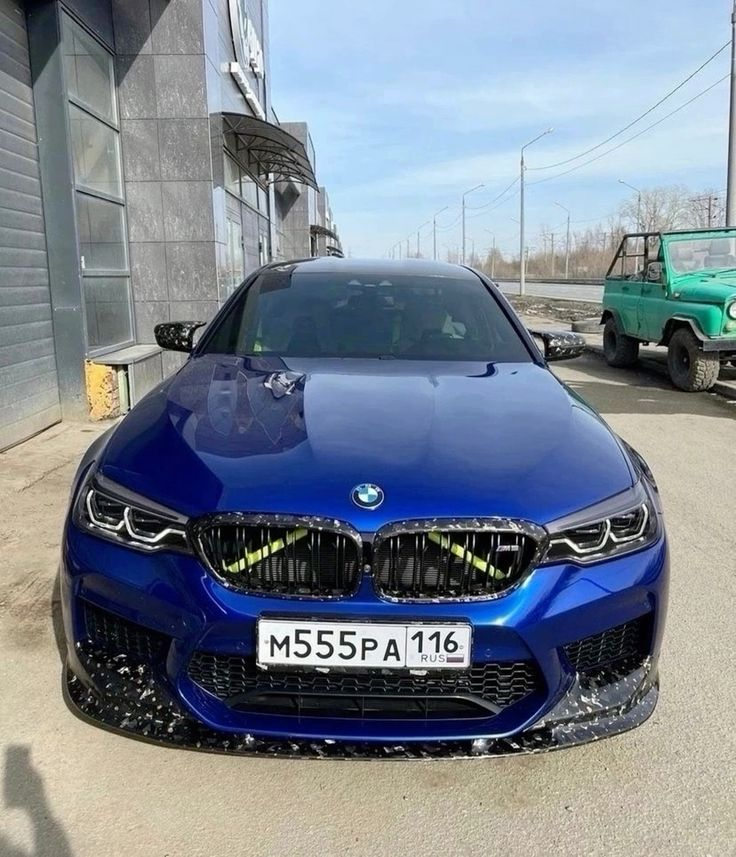plate: (254, 621, 471, 673)
